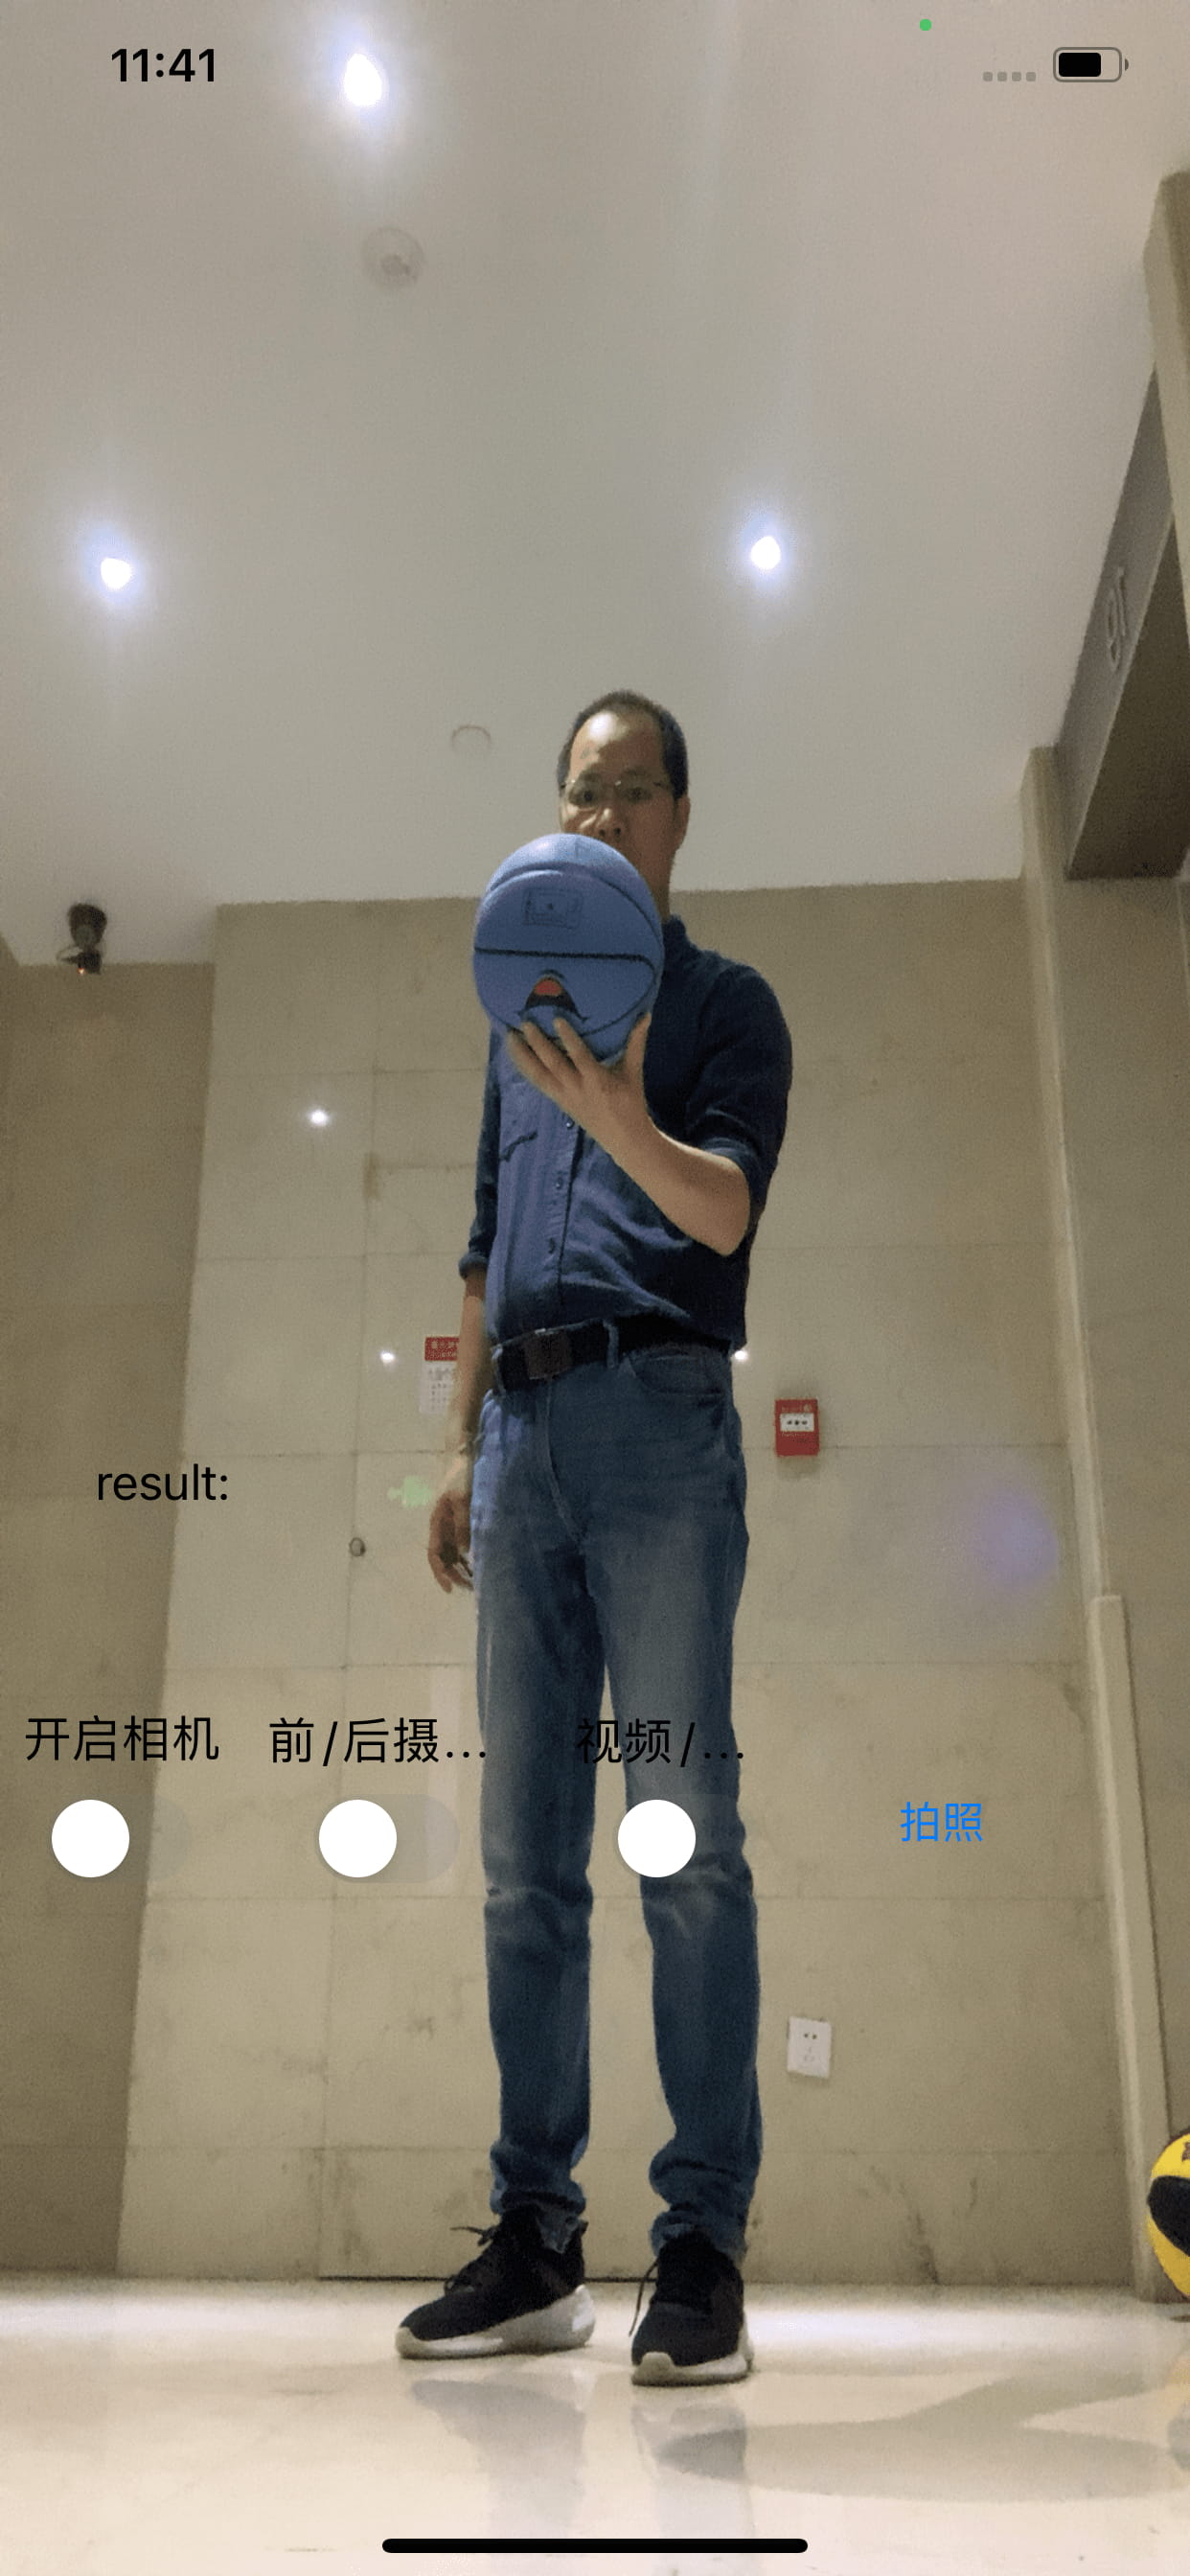ball: (472, 838, 662, 1068)
